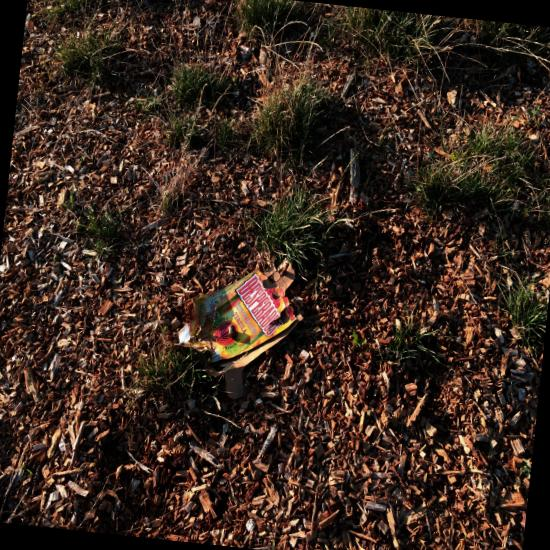Rope - strings: (117, 185, 145, 213)
